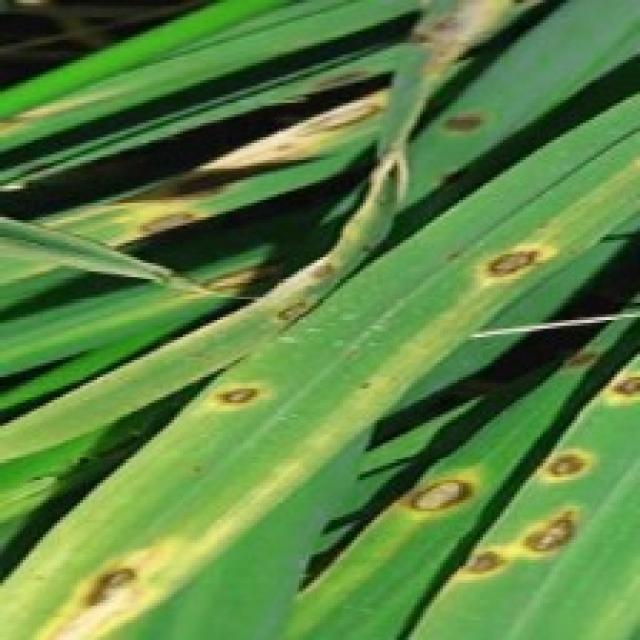Unhealthy: (177, 86, 390, 177), (49, 524, 204, 640), (394, 0, 509, 97), (400, 466, 477, 517), (500, 509, 577, 557), (531, 443, 597, 486), (206, 369, 271, 411), (480, 249, 543, 286), (457, 547, 513, 584), (140, 211, 226, 234), (600, 366, 640, 403), (197, 269, 251, 291), (277, 294, 311, 326), (563, 340, 600, 369), (440, 109, 480, 134), (311, 263, 334, 286)
